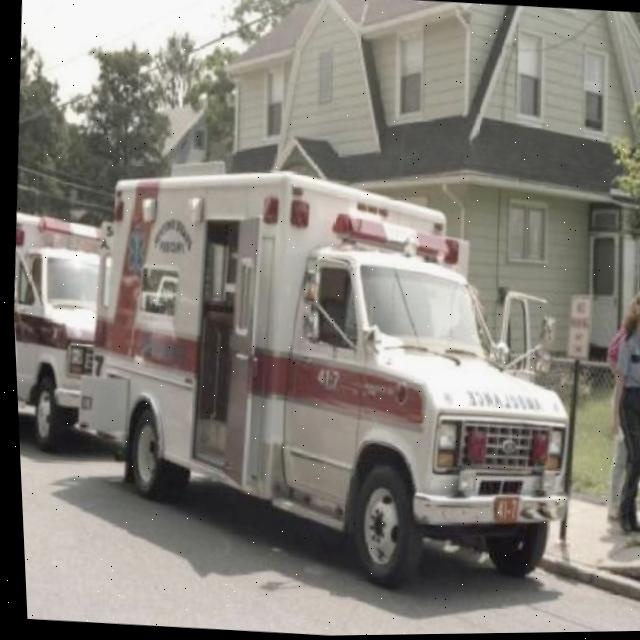emergency: (53, 153, 591, 606), (7, 204, 156, 469)
